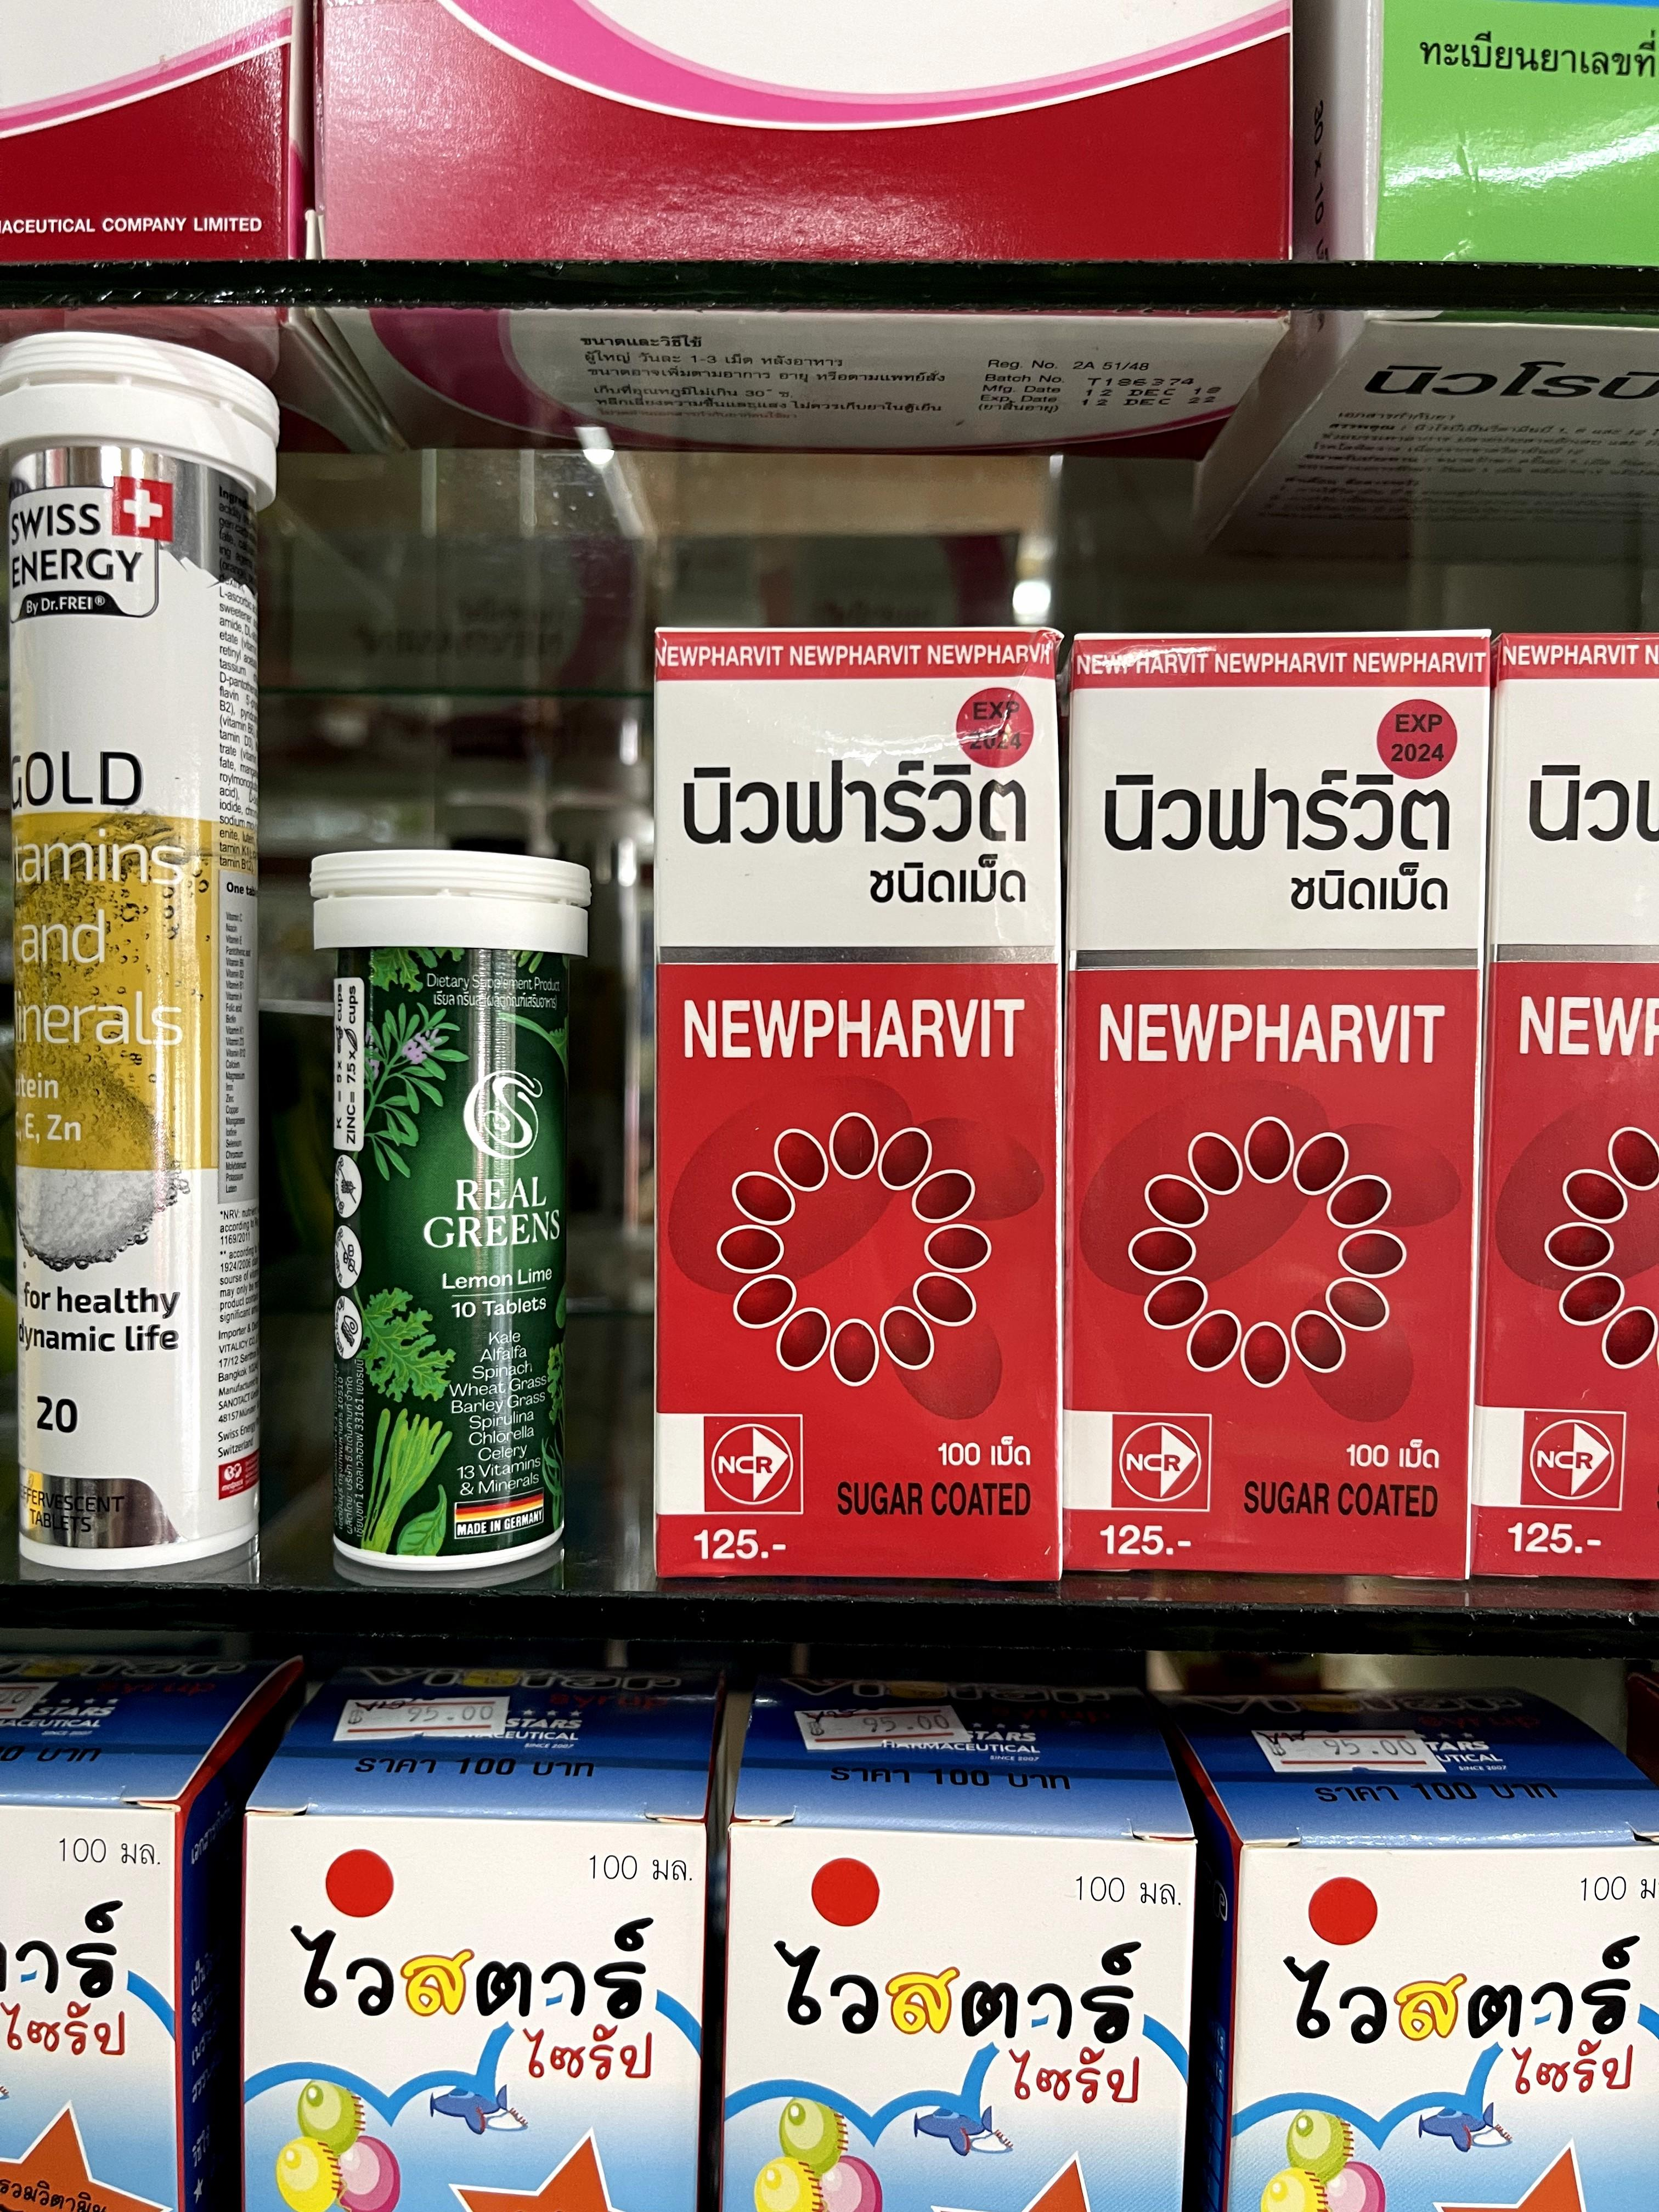Newpharvit: (650, 624, 1066, 1580), (1072, 629, 1478, 1583), (1485, 634, 1659, 1575)
